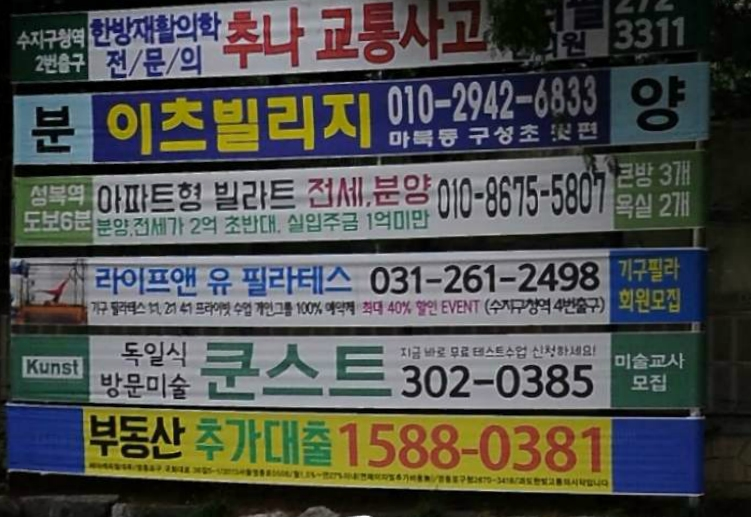banner: (15, 144, 720, 257), (11, 60, 719, 169), (9, 1, 710, 91), (7, 241, 713, 328), (12, 320, 713, 407), (4, 410, 719, 481)
